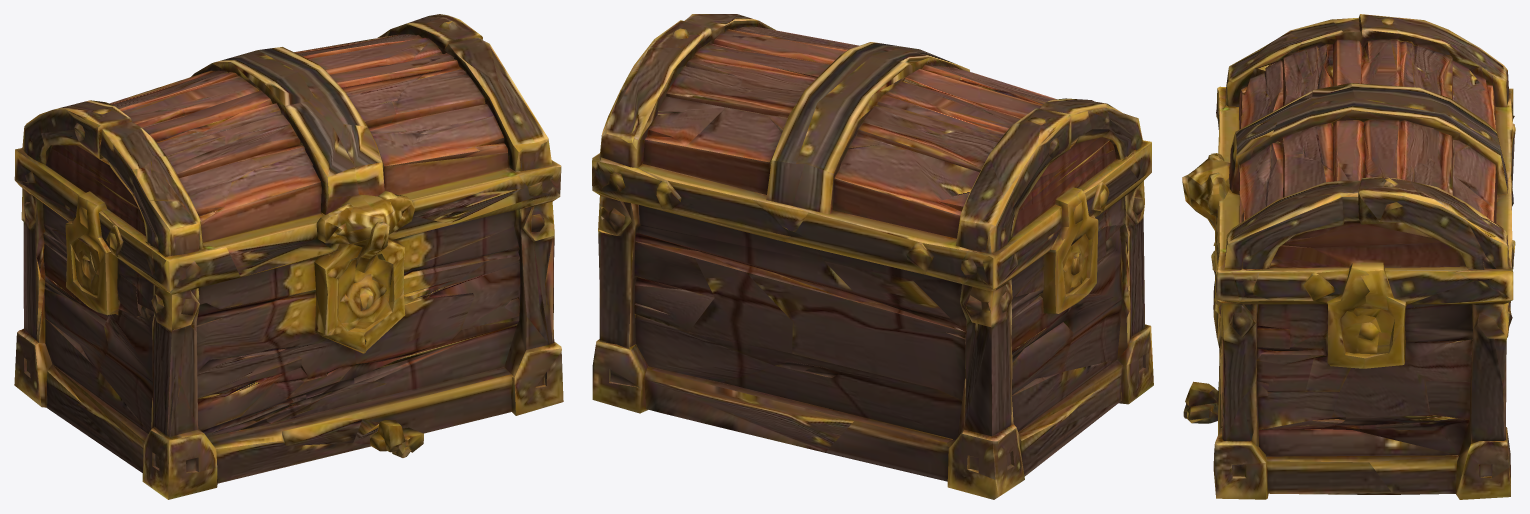
Rendered from treasure-chest.glb.
3 views of the same model, side by side, from view 1: azimuth 30°, elevation 25°; view 2: azimuth 150°, elevation 25°; view 3: azimuth 270°, elevation 25° (orthographic). The views are drawn at different scales.
Bounding box in the file's own units: 1.88 × 1.43 × 1.38.
1 material, 1 textured.
